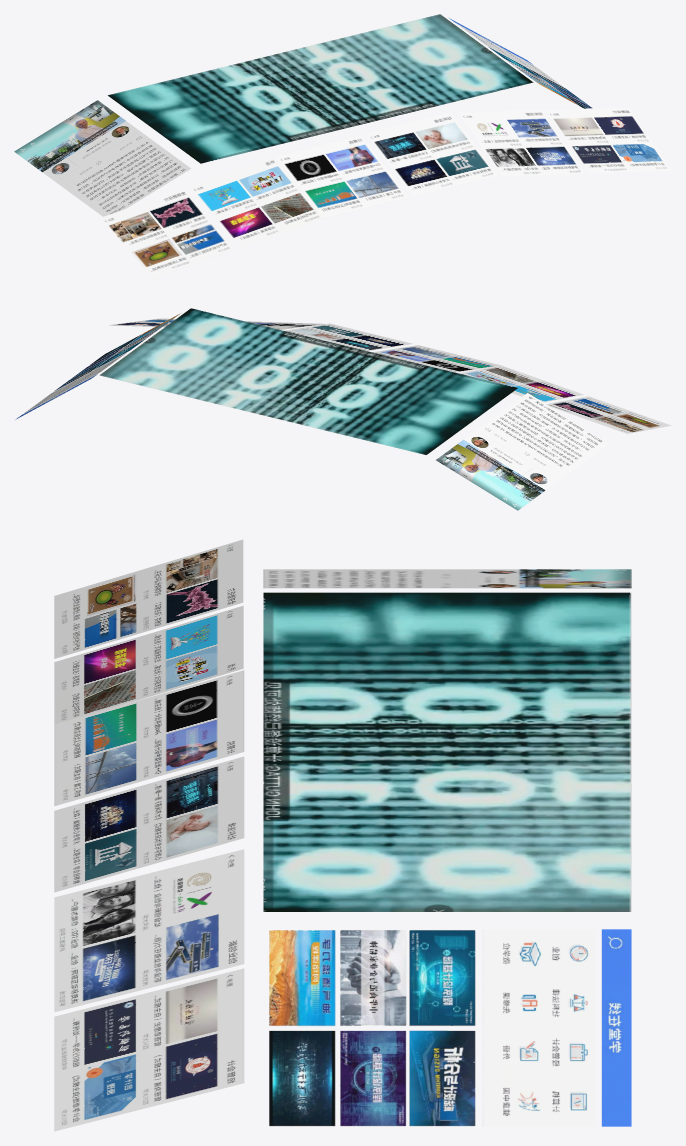
Rendered from Xuetangx.fbx.
3 renders of one model, top to bottom at view 1: azimuth 30°, elevation 25°; view 2: azimuth 150°, elevation 25°; view 3: azimuth 270°, elevation 25°, orthographic. The views are drawn at different scales.
Parts seen in each view (by area): view 1: D:\HoloLens\StoryPad\XuetangX\Xuetangx_0000_图层-13.png, D:\HoloLens\StoryPad\XuetangX\Xuetangx_0001_图层-12.png, D:\HoloLens\StoryPad\XuetangX\Xuetangx_0008_图层-11.png, D:\HoloLens\StoryPad\XuetangX\Xuetangx_0006_图层-9.png, D:\HoloLens\StoryPad\XuetangX\Xuetangx_0003_图层-5.png, D:\HoloLens\StoryPad\XuetangX\Xuetangx_0007_图层-10.png, D:\HoloLens\StoryPad\XuetangX\Xuetangx_0004_图层-6.png, D:\HoloLens\StoryPad\XuetangX\Xuetangx_0005_图层-8.png, D:\HoloLens\StoryPad\XuetangX\Xuetangx_0002_图层-2.png; view 2: D:\HoloLens\StoryPad\XuetangX\Xuetangx_0000_图层-13.png, D:\HoloLens\StoryPad\XuetangX\Xuetangx_0001_图层-12.png, D:\HoloLens\StoryPad\XuetangX\Xuetangx_0006_图层-9.png, D:\HoloLens\StoryPad\XuetangX\Xuetangx_0008_图层-11.png, D:\HoloLens\StoryPad\XuetangX\Xuetangx_0007_图层-10.png, D:\HoloLens\StoryPad\XuetangX\Xuetangx_0003_图层-5.png, D:\HoloLens\StoryPad\XuetangX\Xuetangx_0002_图层-2.png, D:\HoloLens\StoryPad\XuetangX\Xuetangx_0005_图层-8.png, D:\HoloLens\StoryPad\XuetangX\Xuetangx_0004_图层-6.png; view 3: D:\HoloLens\StoryPad\XuetangX\Xuetangx_0000_图层-13.png, D:\HoloLens\StoryPad\XuetangX\Xuetangx_0002_图层-2.png, D:\HoloLens\StoryPad\XuetangX\Xuetangx_0004_图层-6.png, D:\HoloLens\StoryPad\XuetangX\Xuetangx_0005_图层-8.png, D:\HoloLens\StoryPad\XuetangX\Xuetangx_0003_图层-5.png, D:\HoloLens\StoryPad\XuetangX\Xuetangx_0007_图层-10.png, D:\HoloLens\StoryPad\XuetangX\Xuetangx_0006_图层-9.png, D:\HoloLens\StoryPad\XuetangX\Xuetangx_0008_图层-11.png, D:\HoloLens\StoryPad\XuetangX\Xuetangx_0001_图层-12.png.
Boxes of the visible parts, box(x1,y1,x2,y2) form: D:\HoloLens\StoryPad\XuetangX\Xuetangx_0000_图层-13.png: box(107, 14, 533, 163); D:\HoloLens\StoryPad\XuetangX\Xuetangx_0001_图层-12.png: box(14, 100, 190, 216); D:\HoloLens\StoryPad\XuetangX\Xuetangx_0008_图层-11.png: box(189, 156, 323, 248); D:\HoloLens\StoryPad\XuetangX\Xuetangx_0006_图层-9.png: box(100, 188, 235, 279); D:\HoloLens\StoryPad\XuetangX\Xuetangx_0003_图层-5.png: box(276, 135, 408, 218); D:\HoloLens\StoryPad\XuetangX\Xuetangx_0007_图层-10.png: box(366, 113, 498, 196); D:\HoloLens\StoryPad\XuetangX\Xuetangx_0004_图层-6.png: box(545, 107, 671, 173); D:\HoloLens\StoryPad\XuetangX\Xuetangx_0005_图层-8.png: box(459, 110, 584, 176); D:\HoloLens\StoryPad\XuetangX\Xuetangx_0002_图层-2.png: box(449, 18, 592, 108); D:\HoloLens\StoryPad\XuetangX\Xuetangx_0000_图层-13.png: box(99, 308, 517, 455); D:\HoloLens\StoryPad\XuetangX\Xuetangx_0001_图层-12.png: box(436, 393, 609, 510); D:\HoloLens\StoryPad\XuetangX\Xuetangx_0006_图层-9.png: box(546, 396, 671, 433); D:\HoloLens\StoryPad\XuetangX\Xuetangx_0008_图层-11.png: box(459, 365, 583, 402); D:\HoloLens\StoryPad\XuetangX\Xuetangx_0007_图层-10.png: box(284, 323, 412, 351); D:\HoloLens\StoryPad\XuetangX\Xuetangx_0003_图层-5.png: box(373, 345, 501, 372); D:\HoloLens\StoryPad\XuetangX\Xuetangx_0002_图层-2.png: box(15, 313, 180, 419); D:\HoloLens\StoryPad\XuetangX\Xuetangx_0005_图层-8.png: box(246, 321, 324, 329); D:\HoloLens\StoryPad\XuetangX\Xuetangx_0004_图层-6.png: box(109, 318, 175, 327); D:\HoloLens\StoryPad\XuetangX\Xuetangx_0000_图层-13.png: box(263, 592, 631, 911); D:\HoloLens\StoryPad\XuetangX\Xuetangx_0002_图层-2.png: box(263, 929, 631, 1126); D:\HoloLens\StoryPad\XuetangX\Xuetangx_0004_图层-6.png: box(54, 968, 244, 1131); D:\HoloLens\StoryPad\XuetangX\Xuetangx_0005_图层-8.png: box(54, 849, 244, 1012); D:\HoloLens\StoryPad\XuetangX\Xuetangx_0003_图层-5.png: box(54, 670, 244, 806); D:\HoloLens\StoryPad\XuetangX\Xuetangx_0007_图层-10.png: box(54, 756, 244, 892); D:\HoloLens\StoryPad\XuetangX\Xuetangx_0006_图层-9.png: box(54, 539, 243, 658); D:\HoloLens\StoryPad\XuetangX\Xuetangx_0008_图层-11.png: box(54, 605, 243, 724); D:\HoloLens\StoryPad\XuetangX\Xuetangx_0001_图层-12.png: box(263, 569, 631, 588).
Size of the model in its own units: 110 by 53 by 13.99.
